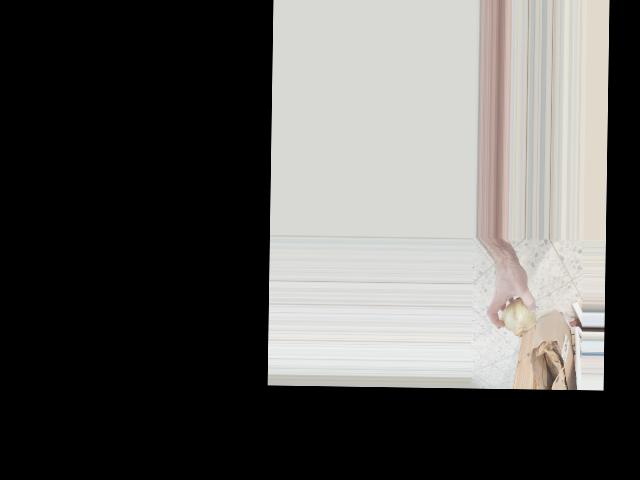onion: (498, 293, 538, 338)
